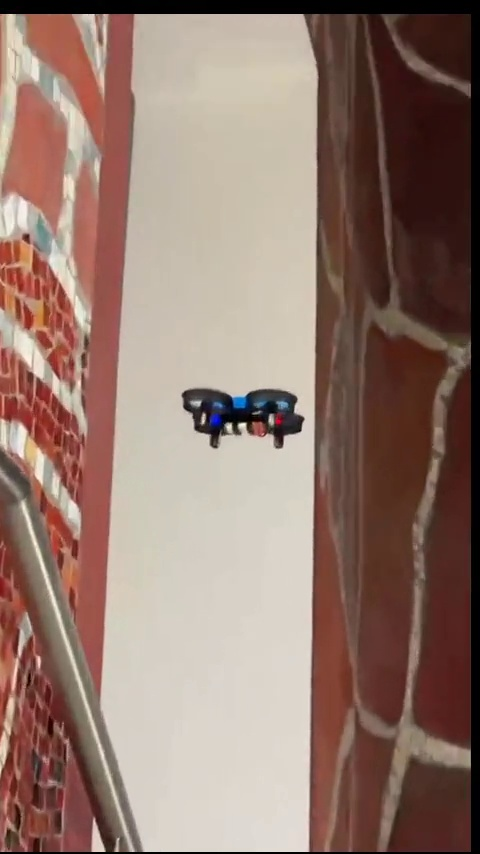drone: (180, 389, 305, 451)
